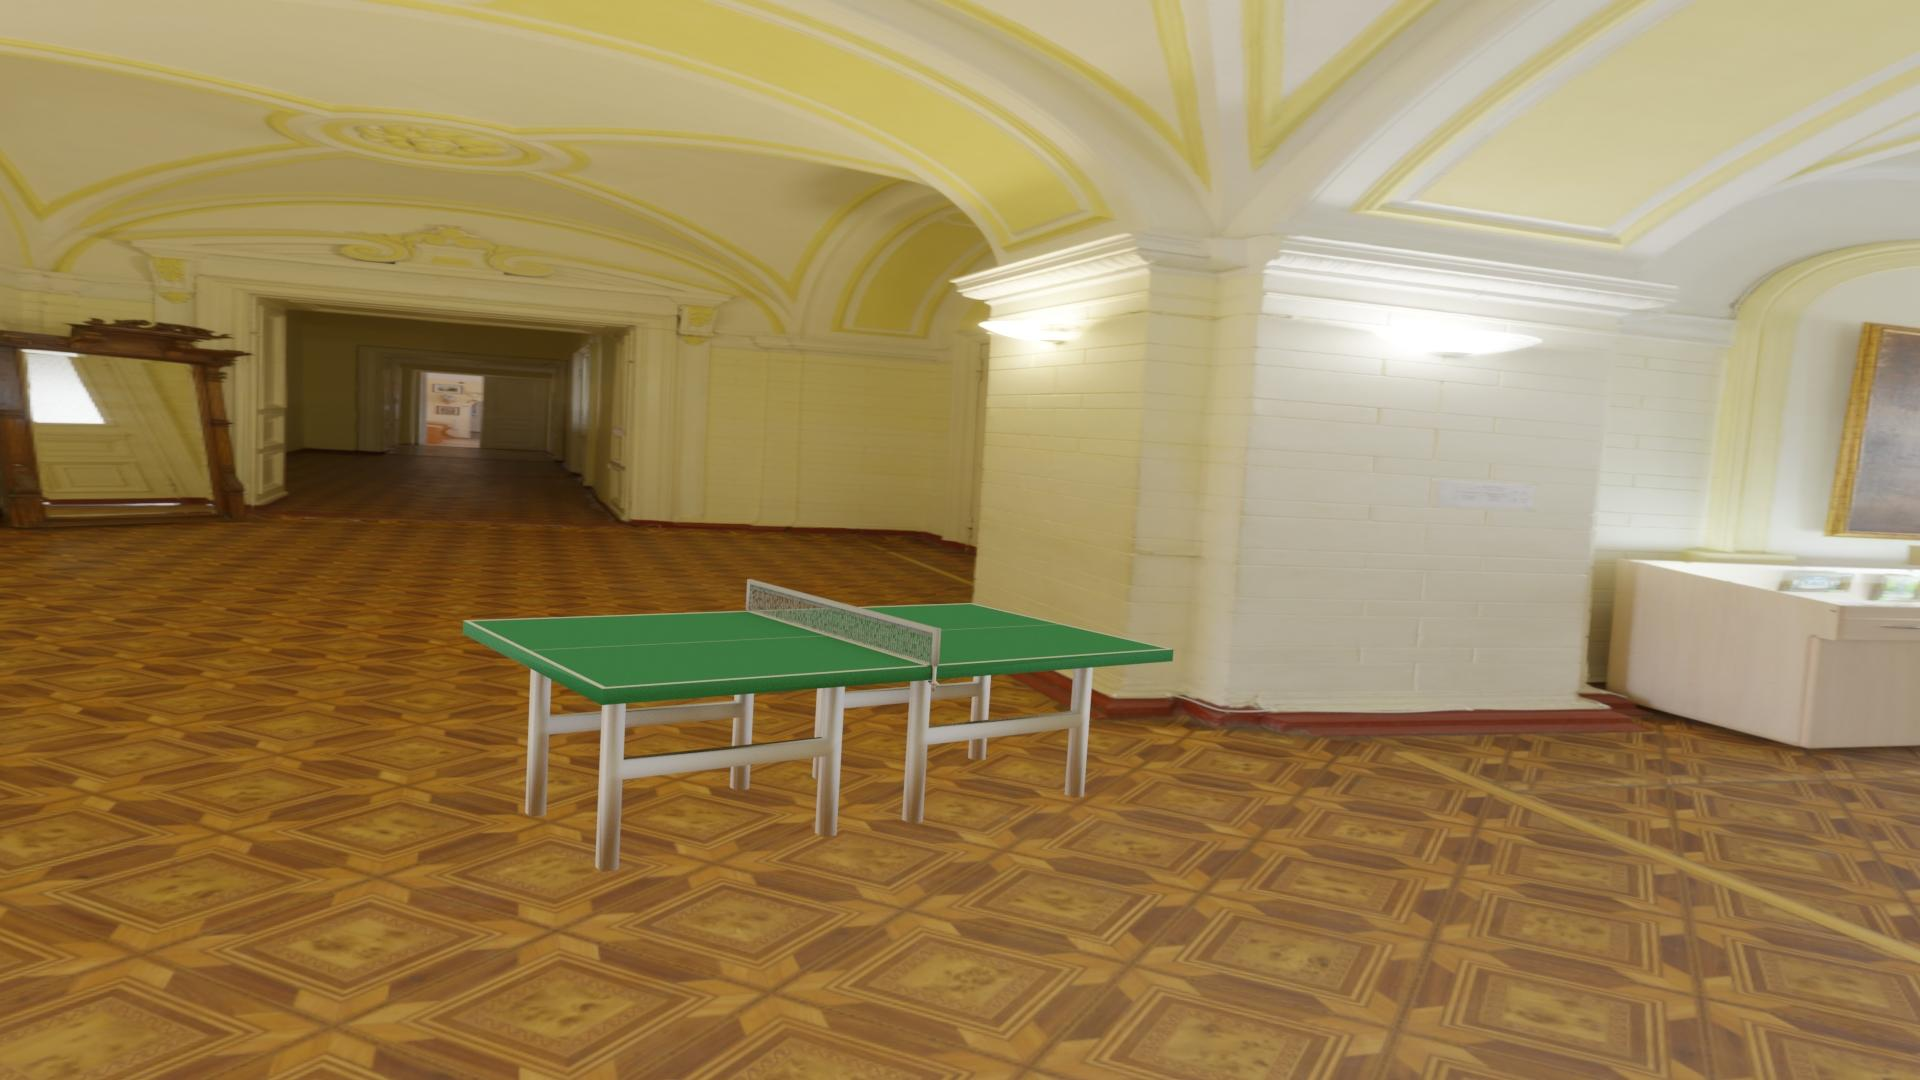table: (469, 604, 1167, 687)
